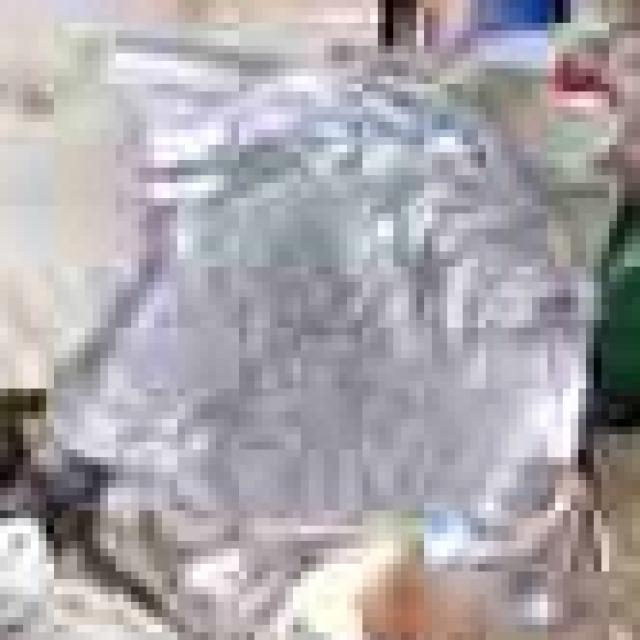kim_loai: (62, 38, 586, 545)
